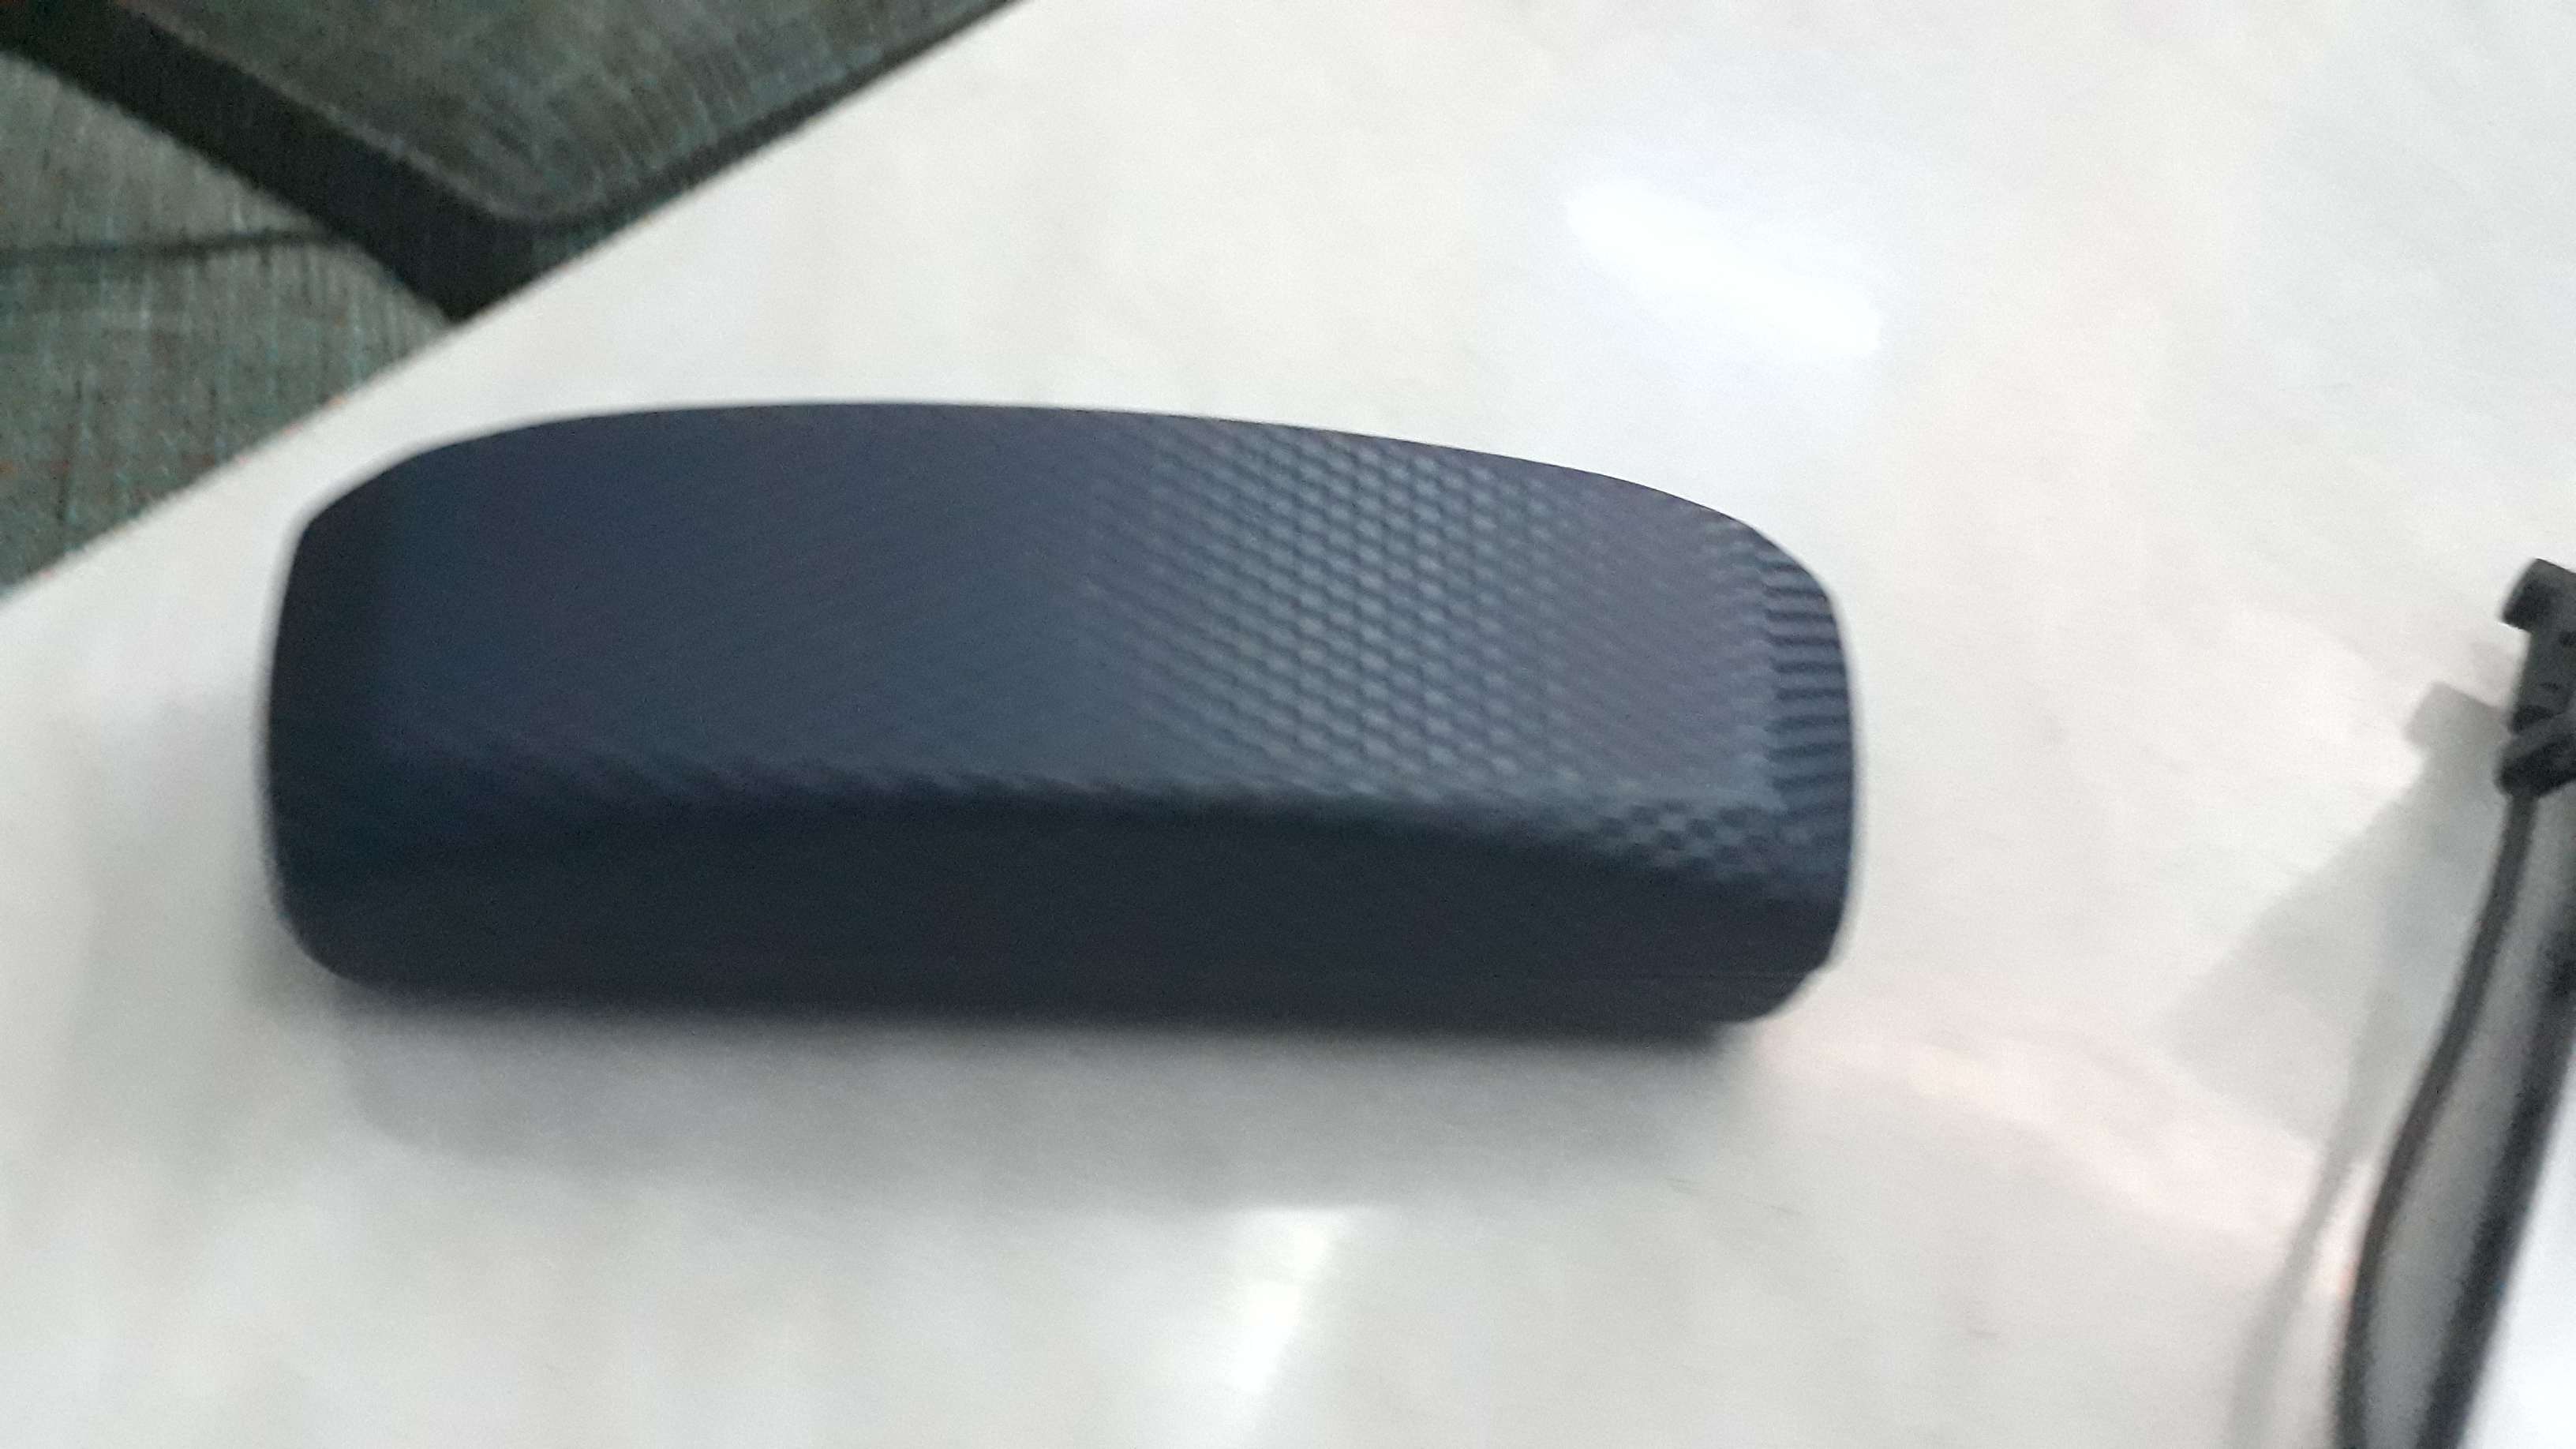nadar: (221, 389, 1872, 1031)
